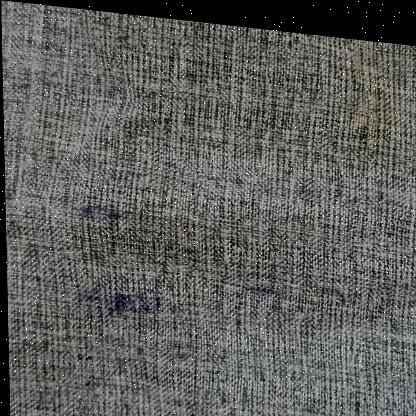spot: (348, 35, 391, 149), (97, 280, 171, 323), (218, 264, 294, 296), (63, 196, 134, 228), (136, 97, 151, 106)
